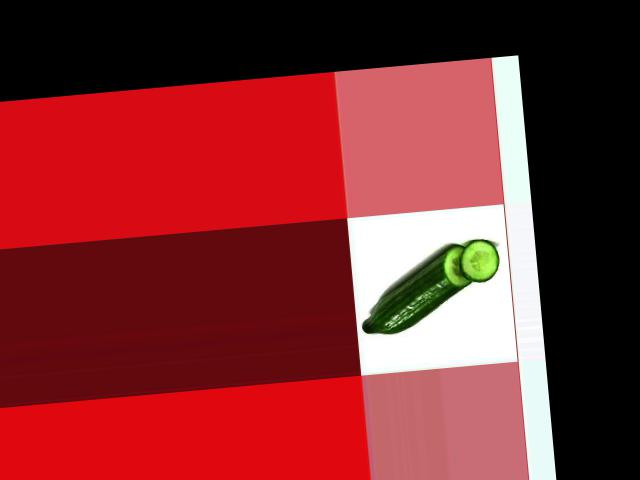cucumber: (356, 243, 478, 335)
